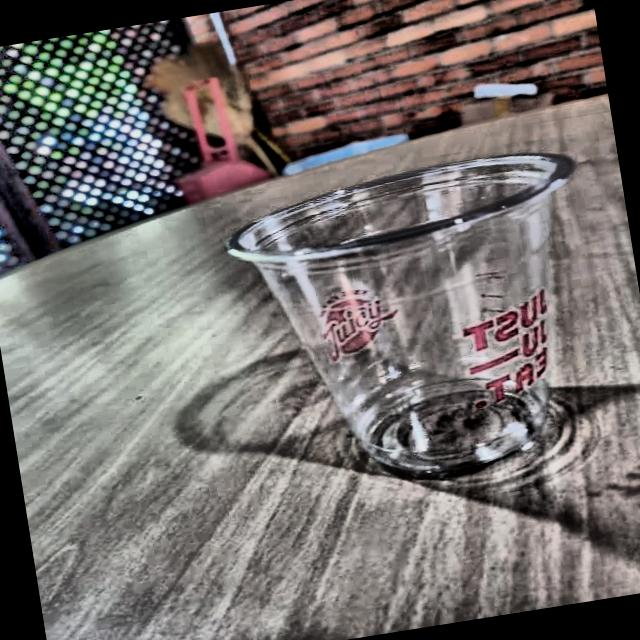plastic cup: (210, 130, 632, 516)
